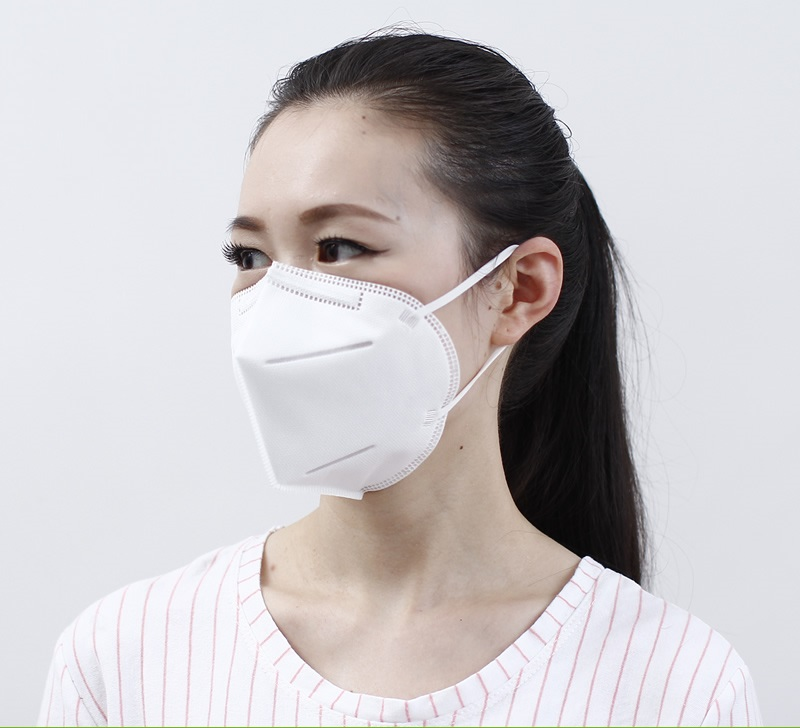face_mask: (225, 111, 481, 501)
